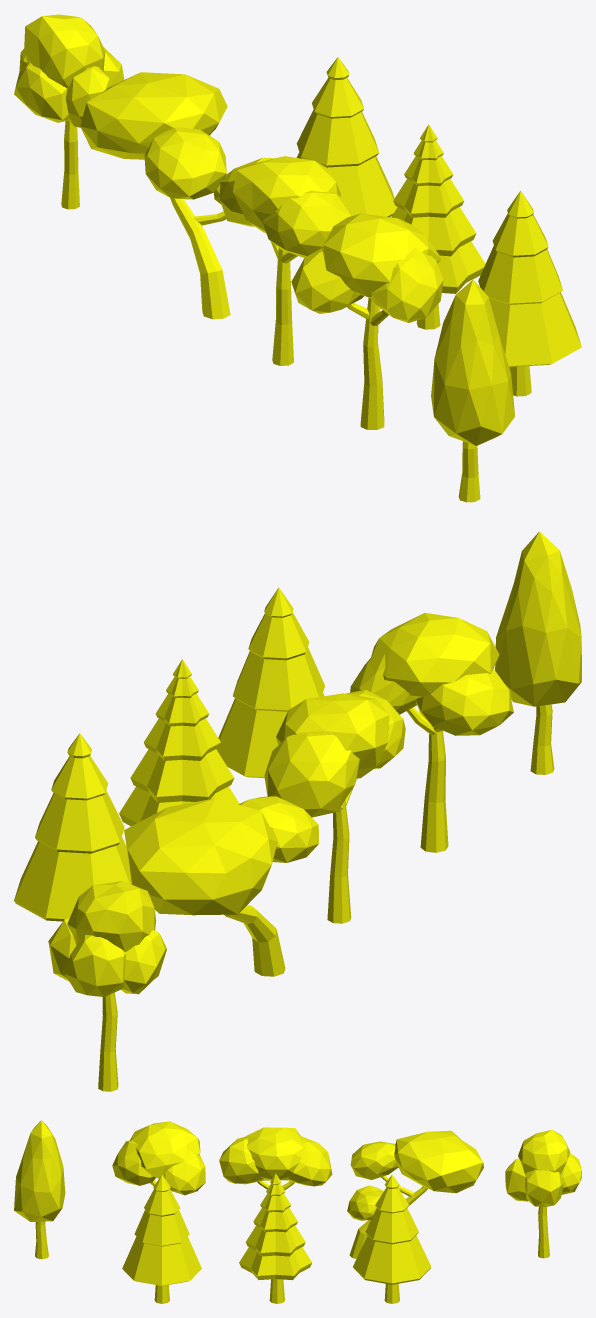
Rendered from trees.glb.
3 renders of one model, top to bottom at view 1: azimuth 30°, elevation 25°; view 2: azimuth 150°, elevation 25°; view 3: azimuth 270°, elevation 25°, orthographic. The views are drawn at different scales.
Parts seen in each view (by area): view 1: Cylinder.021, Cylinder.022, Cylinder.020, Cylinder.027, Cylinder.023, Cylinder.024, Cylinder.025, Cylinder.029; view 2: Cylinder.021, Cylinder.022, Cylinder.020, Cylinder.023, Cylinder.025, Cylinder.024, Cylinder.027, Cylinder.029; view 3: Cylinder.021, Cylinder.027, Cylinder.020, Cylinder.025, Cylinder.022, Cylinder.024, Cylinder.029, Cylinder.023.
Part boxes in pixels (x1=…): Cylinder.021: x1=80, y1=72, x2=230, y2=319; Cylinder.022: x1=291, y1=213, x2=443, y2=429; Cylinder.020: x1=220, y1=156, x2=351, y2=365; Cylinder.027: x1=478, y1=190, x2=581, y2=396; Cylinder.023: x1=431, y1=279, x2=514, y2=502; Cylinder.024: x1=14, y1=14, x2=124, y2=209; Cylinder.025: x1=296, y1=57, x2=397, y2=217; Cylinder.029: x1=391, y1=124, x2=485, y2=329; Cylinder.021: x1=124, y1=796, x2=318, y2=976; Cylinder.022: x1=350, y1=612, x2=513, y2=852; Cylinder.020: x1=264, y1=690, x2=405, y2=923; Cylinder.023: x1=495, y1=531, x2=581, y2=774; Cylinder.025: x1=14, y1=733, x2=131, y2=921; Cylinder.024: x1=48, y1=881, x2=166, y2=1091; Cylinder.027: x1=216, y1=587, x2=324, y2=778; Cylinder.029: x1=119, y1=659, x2=239, y2=826; Cylinder.021: x1=347, y1=1130, x2=483, y2=1258; Cylinder.027: x1=122, y1=1174, x2=201, y2=1303; Cylinder.020: x1=219, y1=1127, x2=332, y2=1190; Cylinder.025: x1=353, y1=1174, x2=431, y2=1303; Cylinder.022: x1=112, y1=1121, x2=205, y2=1195; Cylinder.024: x1=505, y1=1129, x2=581, y2=1258; Cylinder.029: x1=239, y1=1173, x2=312, y2=1303; Cylinder.023: x1=14, y1=1120, x2=65, y2=1259.
Bounding box in the file's own units: 49.1 × 37.42 × 140.
16 materials, 16 textured.
